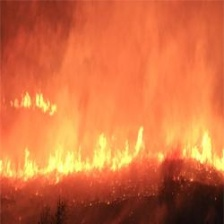fire: (1, 126, 224, 180), (6, 90, 63, 117)
